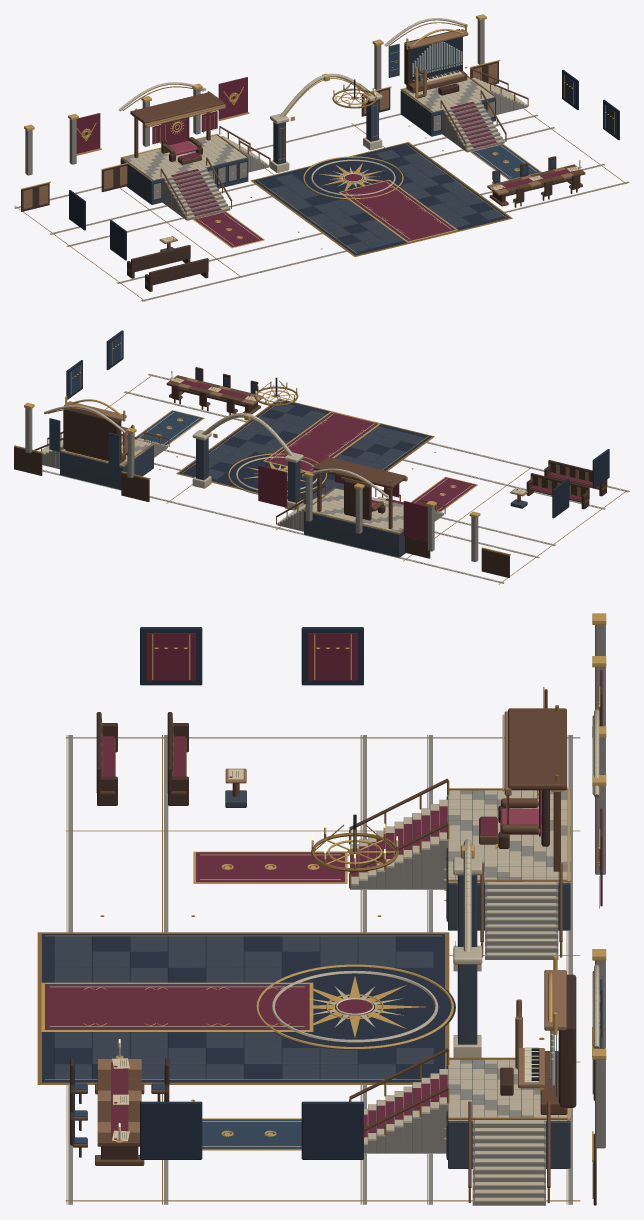
The model's file is grand_hall_v2.glb.
The picture shows the model from 3 angles, top to bottom: view 1: azimuth 30°, elevation 25°; view 2: azimuth 150°, elevation 25°; view 3: azimuth 270°, elevation 25°; orthographic projection. The views are drawn at different scales.
Visible parts, largest first — view 1: GrandHall_1_-8_oxblood_0.022, GrandHall_1_-7_midnight_0, GrandHall_1_-8_midnight_0.018, GrandHall_2_-8_slate_0.006, GrandHall_0_-7_ivory_0.005, GrandHall_0_-7_limestone_0.012, GrandHall_3_-7_limestone_0.012, GrandHall_1_-8_slate_0.006, GrandHall_3_-7_ivory_0.005, GrandHall_0_-6_walnut_0.08, GrandHall_0_-8_oxblood_0.012, GrandHall_0_-7_slate_0.04 (+35 smaller); view 2: GrandHall_1_-8_oxblood_0.022, GrandHall_0_-7_slate_0.04, GrandHall_3_-6_oak_0.12, GrandHall_3_-7_slate_0.04, GrandHall_2_-8_slate_0.006, GrandHall_0_-6_walnut_0.08, GrandHall_1_-7_midnight_0, GrandHall_1_-8_midnight_0.018, GrandHall_1_-6_oxblood_0.04, GrandHall_3_-8_navy_0.012, GrandHall_0_-8_oxblood_0.012, GrandHall_1_-8_slate_0.006 (+29 smaller); view 3: GrandHall_1_-8_oxblood_0.022, GrandHall_1_-7_midnight_0, GrandHall_1_-8_midnight_0.018, GrandHall_2_-8_slate_0.006, GrandHall_1_-8_slate_0.006, GrandHall_0_-6_walnut_0.08, GrandHall_3_-7_ivory_0.005, GrandHall_0_-8_oxblood_0.012, GrandHall_0_-7_ivory_0.005, GrandHall_1_-6_limestone_0.012, GrandHall_3_-7_limestone_0.012, GrandHall_4_-8_midnight_0.06 (+46 smaller).
Boxes of the visible parts, <box> form: GrandHall_1_-8_oxblood_0.022: <box>341,180,455,241</box>; GrandHall_1_-7_midnight_0: <box>302,157,404,199</box>; GrandHall_1_-8_midnight_0.018: <box>253,143,509,255</box>; GrandHall_2_-8_slate_0.006: <box>400,167,484,213</box>; GrandHall_0_-7_ivory_0.005: <box>144,144,247,218</box>; GrandHall_0_-7_limestone_0.012: <box>162,167,230,220</box>; GrandHall_3_-7_limestone_0.012: <box>442,78,504,152</box>; GrandHall_1_-8_slate_0.006: <box>288,199,384,238</box>; GrandHall_3_-7_ivory_0.005: <box>413,77,503,149</box>; GrandHall_0_-6_walnut_0.08: <box>130,92,224,123</box>; GrandHall_0_-8_oxblood_0.012: <box>195,212,262,247</box>; GrandHall_0_-7_slate_0.04: <box>120,157,248,204</box>; GrandHall_1_-8_oxblood_0.022: <box>265,412,378,471</box>; GrandHall_0_-7_slate_0.04: <box>304,511,405,557</box>; GrandHall_3_-6_oak_0.12: <box>63,408,121,459</box>; GrandHall_3_-7_slate_0.04: <box>60,445,153,489</box>; GrandHall_2_-8_slate_0.006: <box>213,416,307,458</box>; GrandHall_0_-6_walnut_0.08: <box>313,457,406,488</box>; GrandHall_1_-7_midnight_0: <box>227,455,327,495</box>; GrandHall_1_-8_midnight_0.018: <box>179,399,431,503</box>; GrandHall_1_-6_oxblood_0.04: <box>258,465,287,507</box>; GrandHall_3_-8_navy_0.012: <box>137,410,202,444</box>; GrandHall_0_-8_oxblood_0.012: <box>412,477,475,511</box>; GrandHall_1_-8_slate_0.006: <box>334,440,407,469</box>; GrandHall_1_-8_oxblood_0.022: <box>45,984,309,1029</box>; GrandHall_1_-7_midnight_0: <box>273,967,455,1050</box>; GrandHall_1_-8_midnight_0.018: <box>42,934,444,1082</box>; GrandHall_2_-8_slate_0.006: <box>130,1032,319,1079</box>; GrandHall_1_-8_slate_0.006: <box>130,936,319,982</box>; GrandHall_0_-6_walnut_0.08: <box>508,708,566,790</box>; GrandHall_3_-7_ivory_0.005: <box>364,1059,543,1143</box>; GrandHall_0_-8_oxblood_0.012: <box>196,852,344,882</box>; GrandHall_0_-7_ivory_0.005: <box>350,799,521,884</box>; GrandHall_1_-6_limestone_0.012: <box>485,882,558,959</box>; GrandHall_3_-7_limestone_0.012: <box>364,1069,545,1153</box>; GrandHall_4_-8_midnight_0.06: <box>140,1101,202,1159</box>.
Size of what is drawn, in the model's own units: 46.16 by 8.8 by 23.21.
